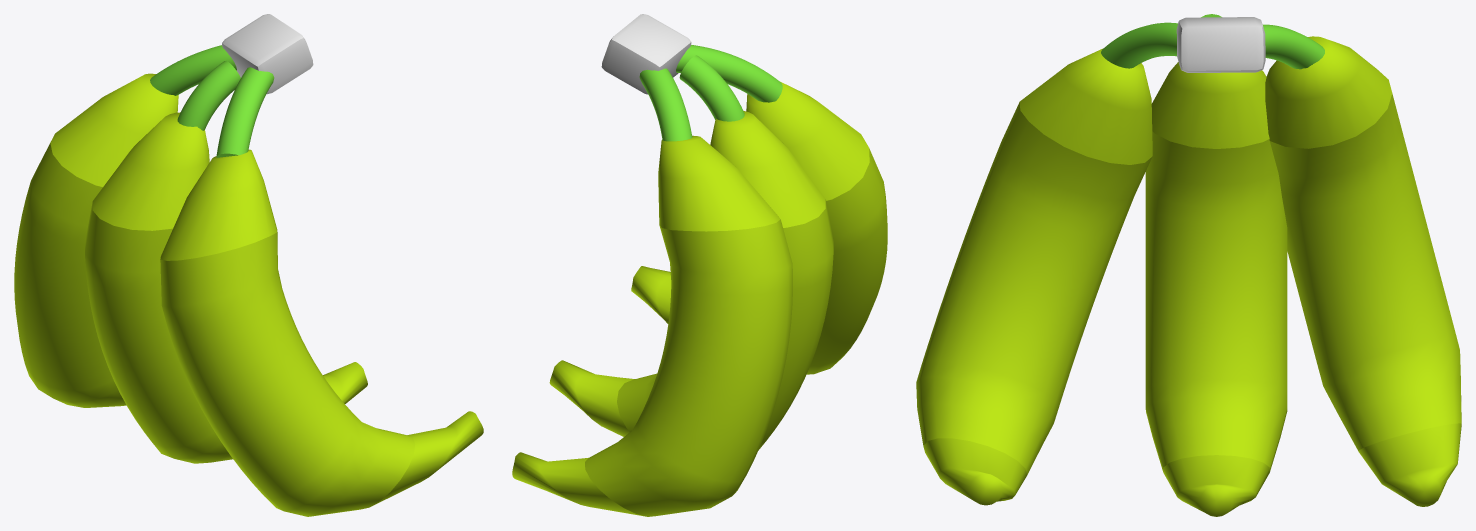
Rendered from banana1.FBX.
The picture shows the model from 3 angles, left to right: view 1: azimuth 30°, elevation 25°; view 2: azimuth 150°, elevation 25°; view 3: azimuth 270°, elevation 25°; orthographic projection. The views are drawn at different scales.
Parts seen in each view (by area): view 1: Cylinder004, Cylinder001, Cylinder007, Box001, Cylinder005, Cylinder002, Cylinder008; view 2: Cylinder007, Cylinder004, Cylinder001, Box001, Cylinder005, Cylinder008, Cylinder002; view 3: Cylinder004, Cylinder007, Cylinder001, Box001, Cylinder005, Cylinder008.
Boxes of the visible parts, left/top/right/bottom form: Cylinder004: left=160, top=149, right=483, bottom=516; Cylinder001: left=85, top=112, right=367, bottom=463; Cylinder007: left=14, top=73, right=178, bottom=407; Box001: left=222, top=14, right=313, bottom=94; Cylinder005: left=216, top=67, right=274, bottom=157; Cylinder002: left=177, top=61, right=240, bottom=130; Cylinder008: left=150, top=45, right=236, bottom=95; Cylinder007: left=512, top=135, right=792, bottom=516; Cylinder004: left=631, top=81, right=887, bottom=374; Cylinder001: left=549, top=111, right=833, bottom=450; Box001: left=601, top=14, right=691, bottom=94; Cylinder005: left=676, top=44, right=782, bottom=102; Cylinder008: left=639, top=68, right=692, bottom=141; Cylinder002: left=679, top=55, right=744, bottom=121; Cylinder004: left=916, top=48, right=1152, bottom=505; Cylinder007: left=1265, top=36, right=1461, bottom=506; Cylinder001: left=1145, top=62, right=1287, bottom=516; Box001: left=1176, top=17, right=1265, bottom=72; Cylinder005: left=1101, top=22, right=1177, bottom=68; Cylinder008: left=1263, top=24, right=1324, bottom=69.
Bounding box in the file's own units: 58.1 × 76.81 × 77.45.
